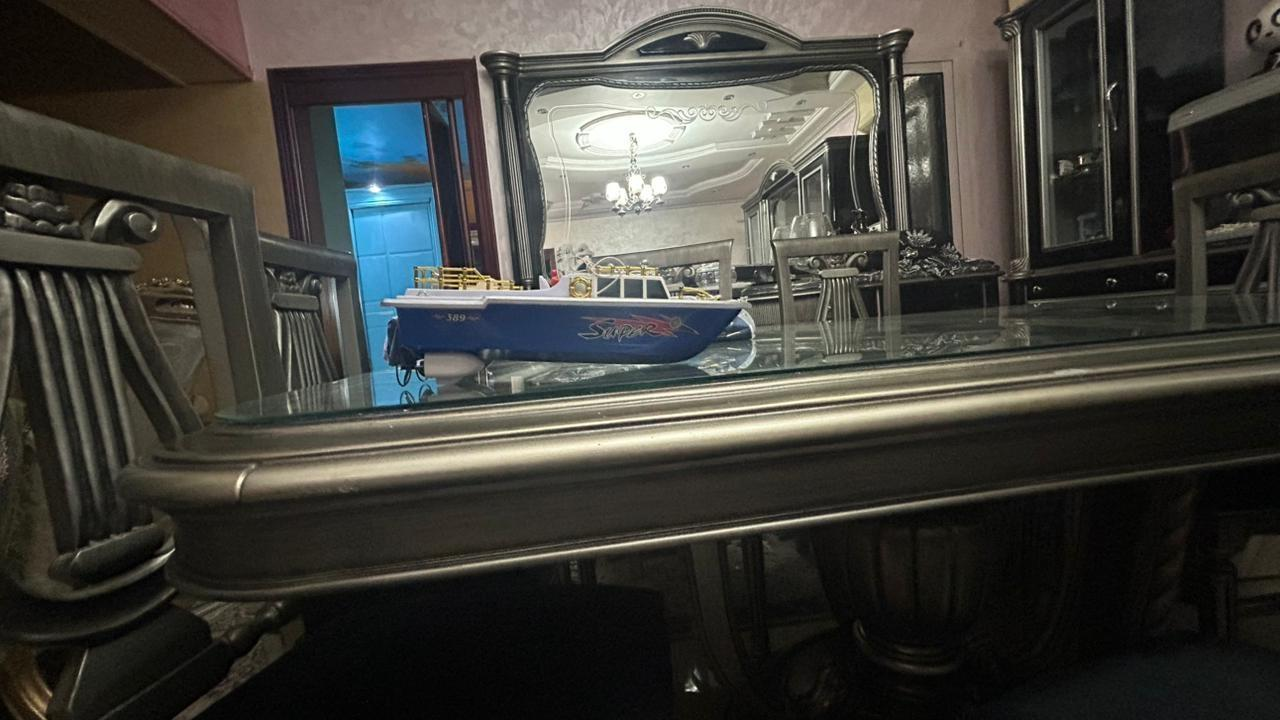Boat: (378, 244, 754, 388)
